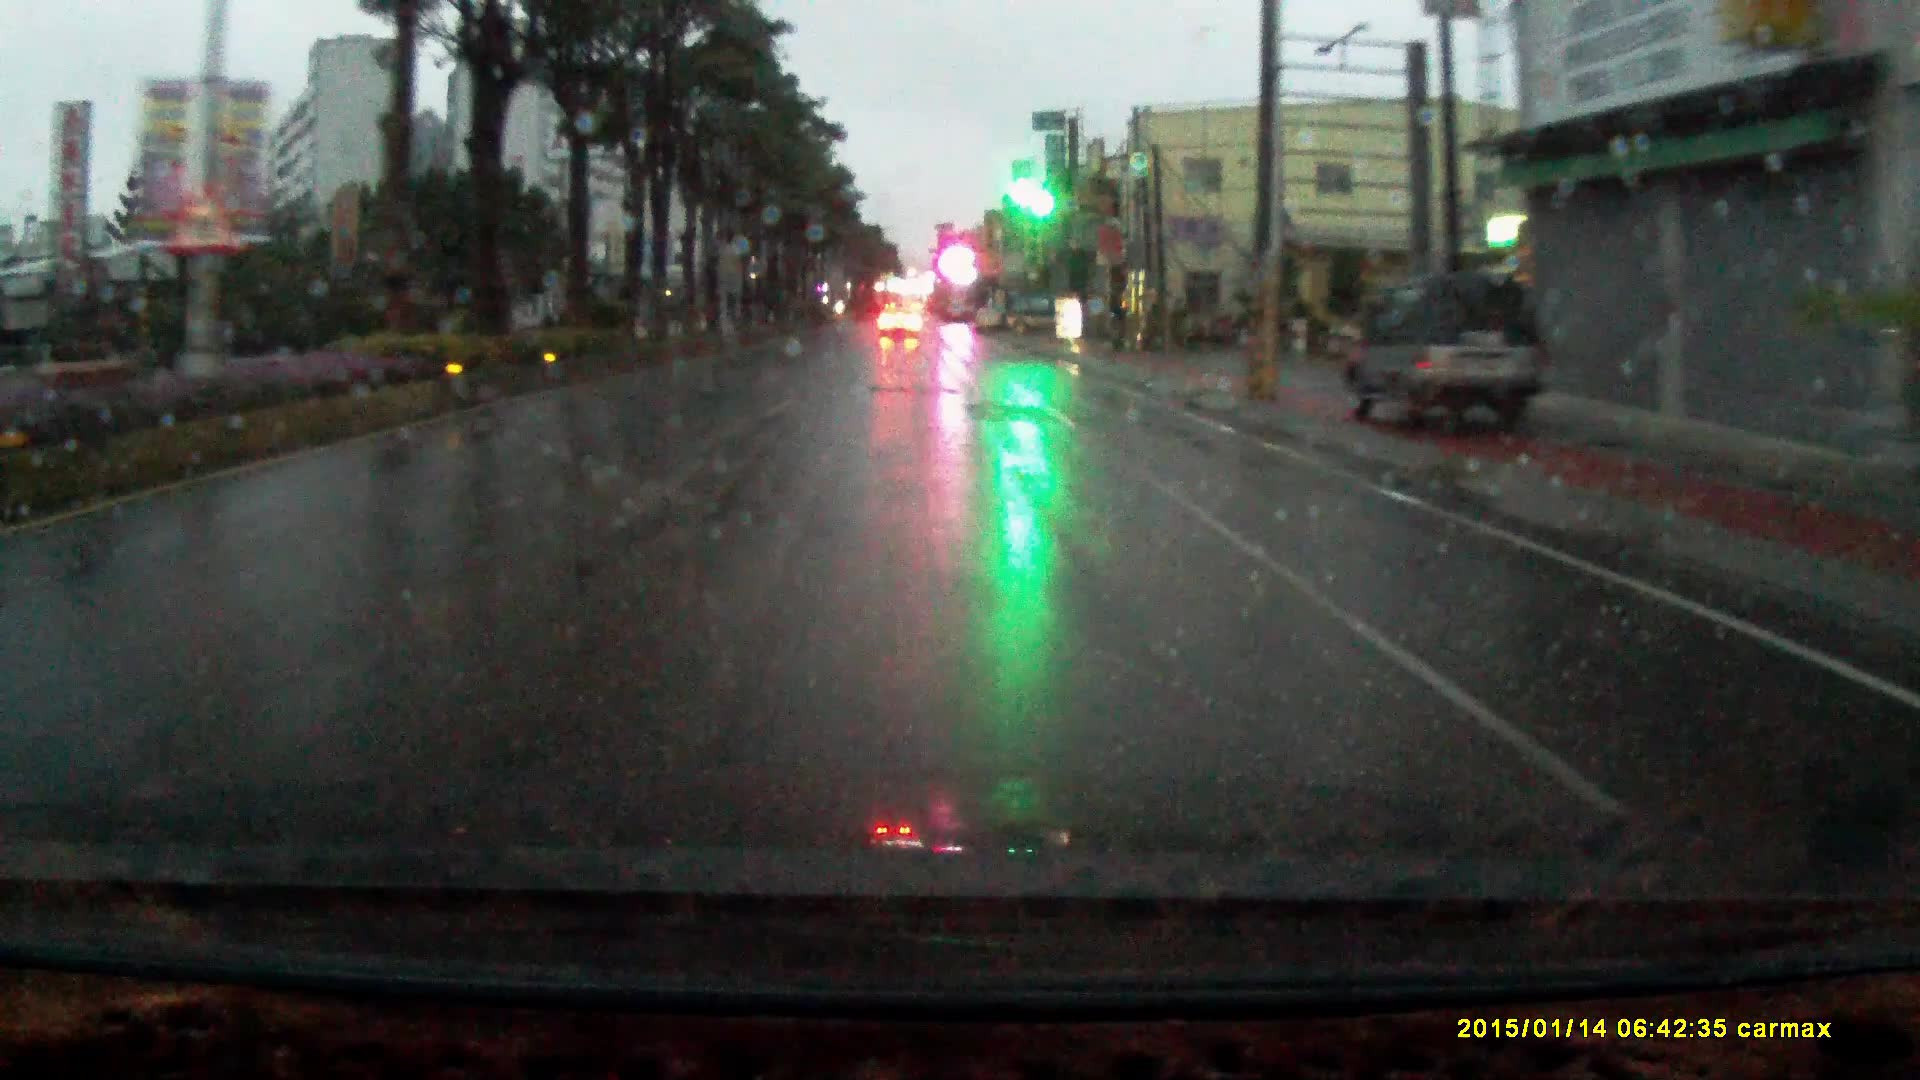vehicle: (1342, 274, 1549, 435), (1004, 295, 1058, 332), (878, 305, 922, 338)
